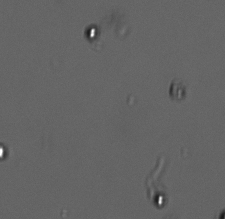Dead Cell: (165, 79, 190, 102)
Living Cell: (83, 23, 100, 42), (151, 192, 169, 209), (1, 143, 10, 163)
